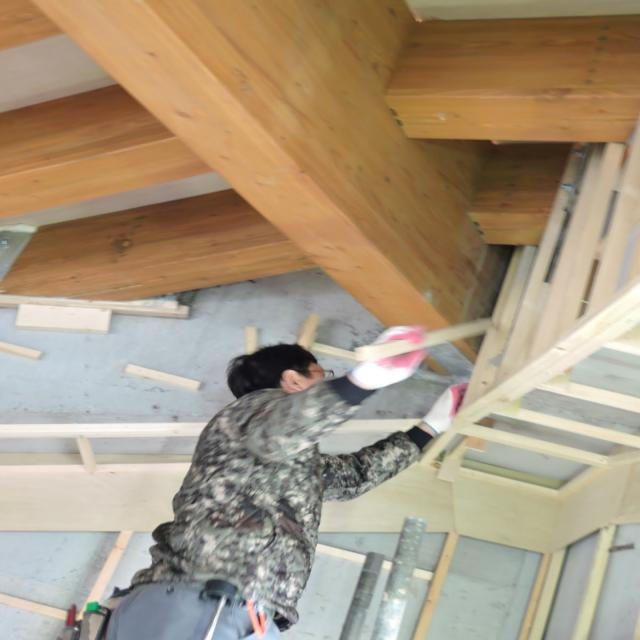wood: (29, 0, 517, 376), (0, 189, 318, 300), (384, 15, 640, 142), (0, 84, 214, 218), (470, 142, 572, 247)
